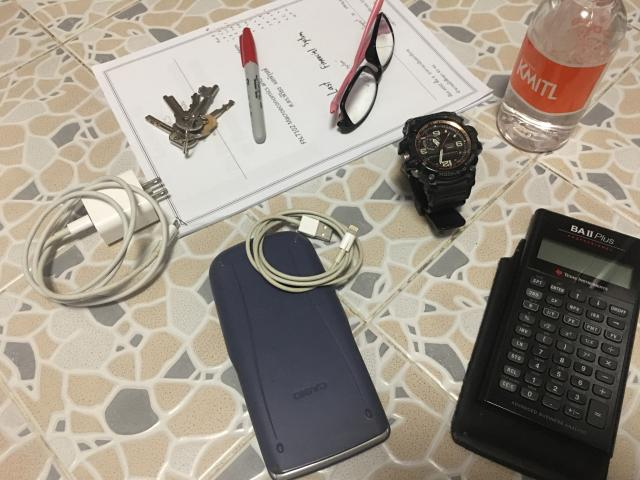Glasses: (330, 0, 394, 134)
Keys: (145, 85, 234, 155)
Pen: (239, 28, 266, 144)
Watch: (399, 111, 482, 231)
bottle: (498, 0, 626, 152)
paper: (92, 0, 491, 235)
wire: (22, 170, 180, 306), (245, 209, 364, 292)
